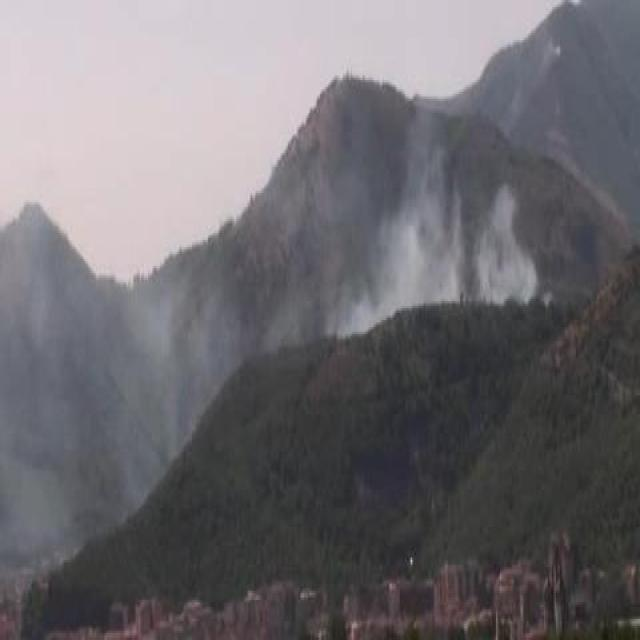Smoke: (368, 187, 533, 305)
